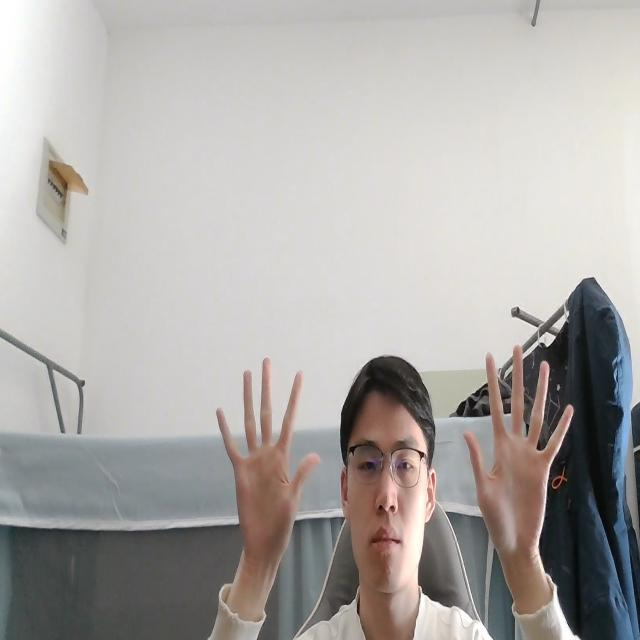five: (465, 340, 574, 566), (215, 352, 322, 576)
